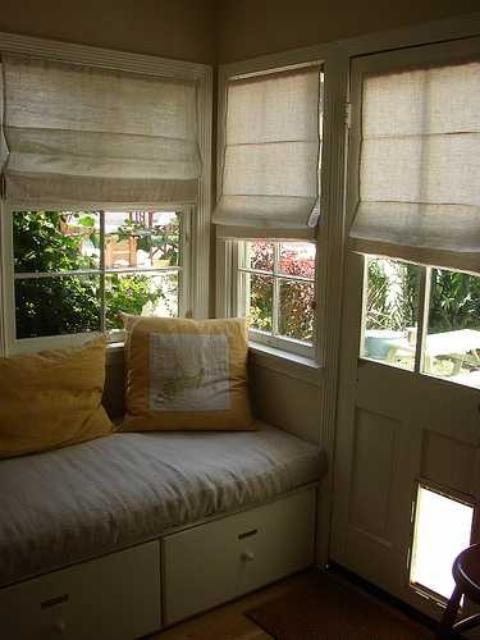pillow: (116, 309, 260, 433), (0, 333, 114, 459)
